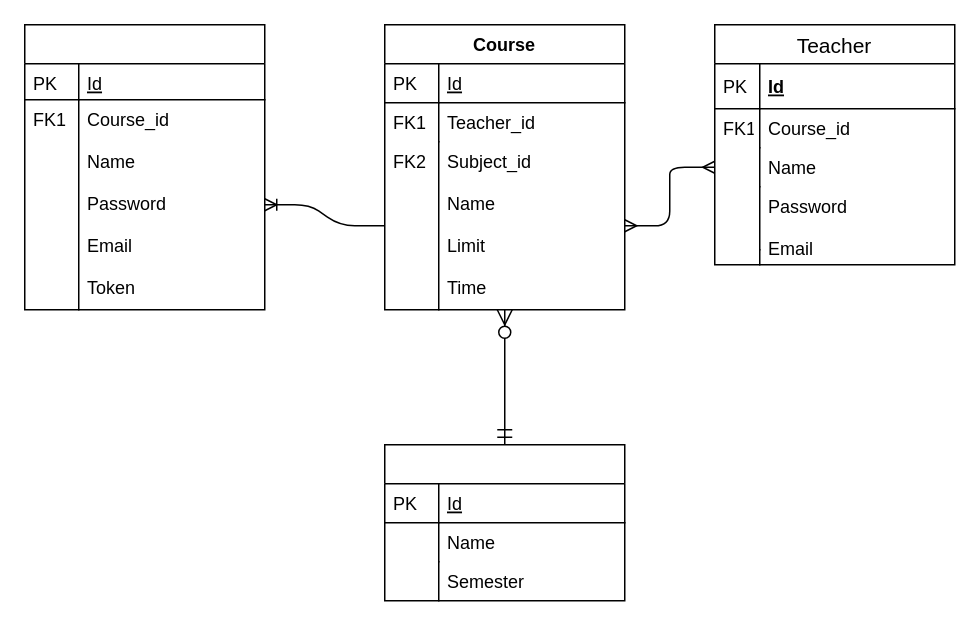
Image size: 980x626. Some labels were removed from this diagram. Here are the shapes that lost their labels. From the top down, the box of each, then its label:
(23, 23, 265, 310): Student
(383, 443, 625, 601): Subject
